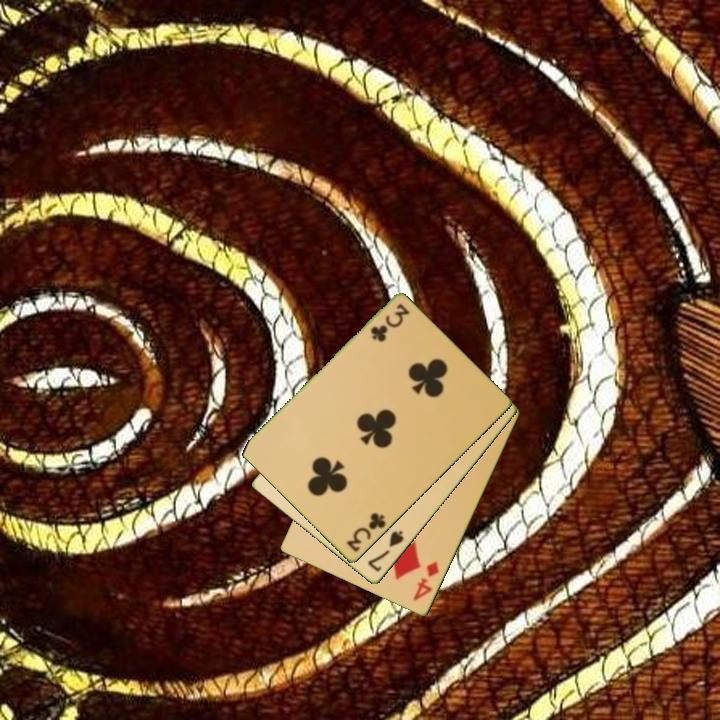3c: (343, 510, 389, 555), (367, 300, 412, 345)
4d: (409, 558, 442, 604)
7s: (364, 527, 407, 575)
